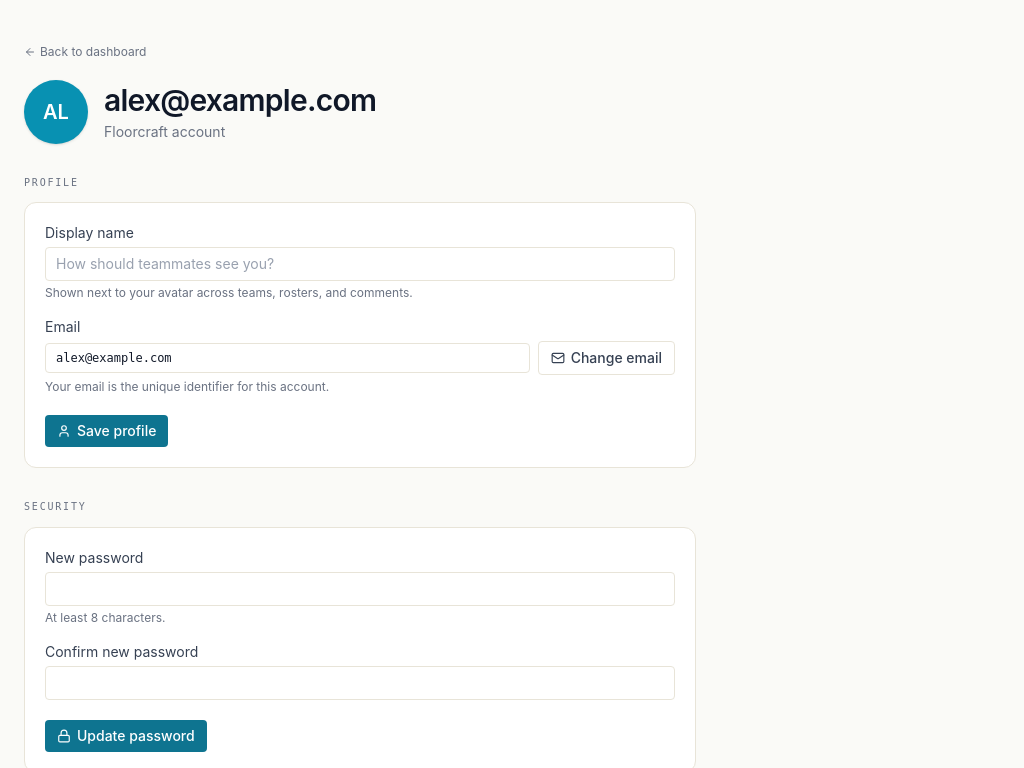
AccountPage (Wave 18C polish) › opens the change-email info dialog from the Profile card
Click the button "Change email": {"x": 606, "y": 358} [538, 341, 675, 375]
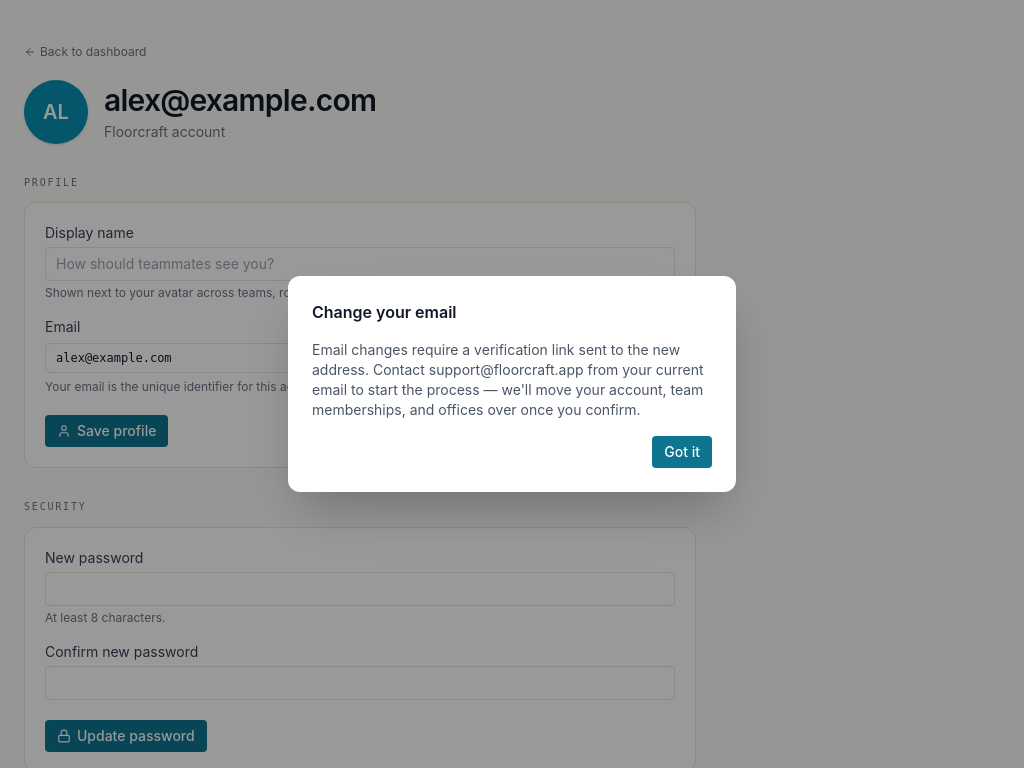
Expected: the dialog "Change your email" is shown, [288, 276, 736, 492]
